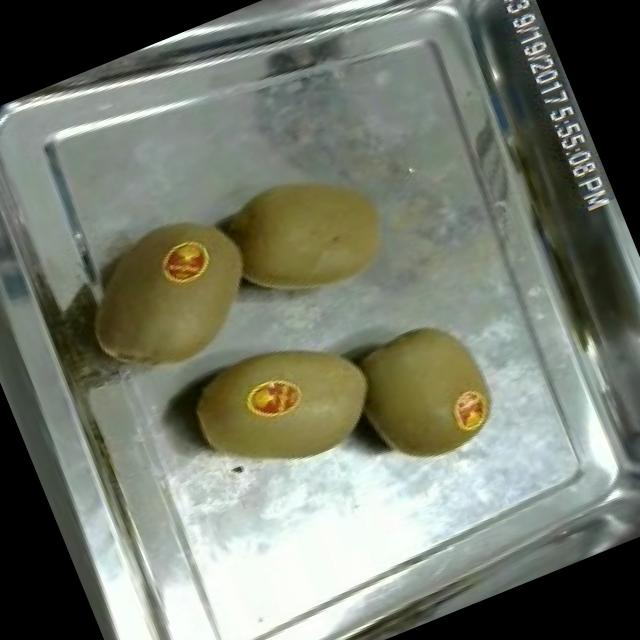Fruit: (54, 193, 271, 402), (169, 306, 395, 504), (207, 141, 412, 326), (330, 300, 512, 484)
